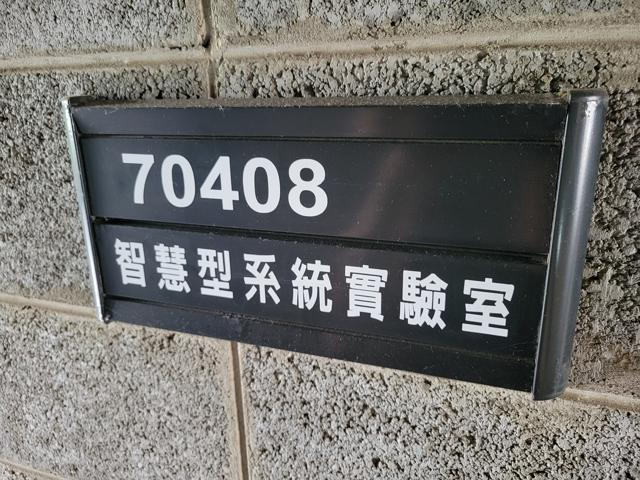doorplate: (52, 74, 613, 408)
